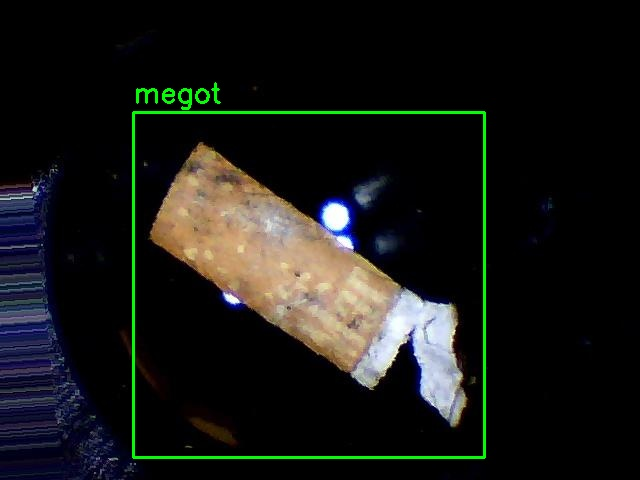megot: (133, 112, 484, 457)
